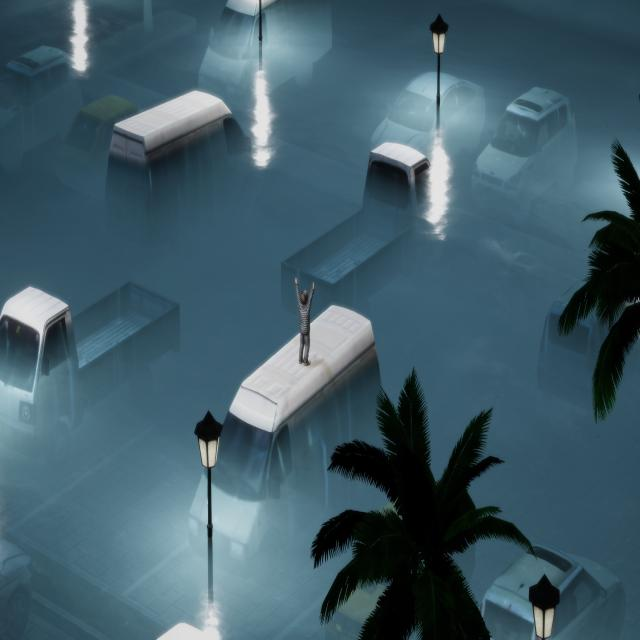Human: (288, 267, 321, 375)
